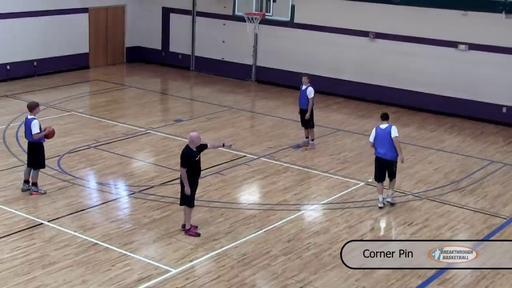ball: (44, 127, 56, 140)
human: (180, 132, 232, 237), (368, 111, 404, 210), (21, 102, 52, 196), (296, 74, 316, 150)
rim: (243, 12, 265, 33)
